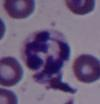N: (20, 29, 70, 86)
